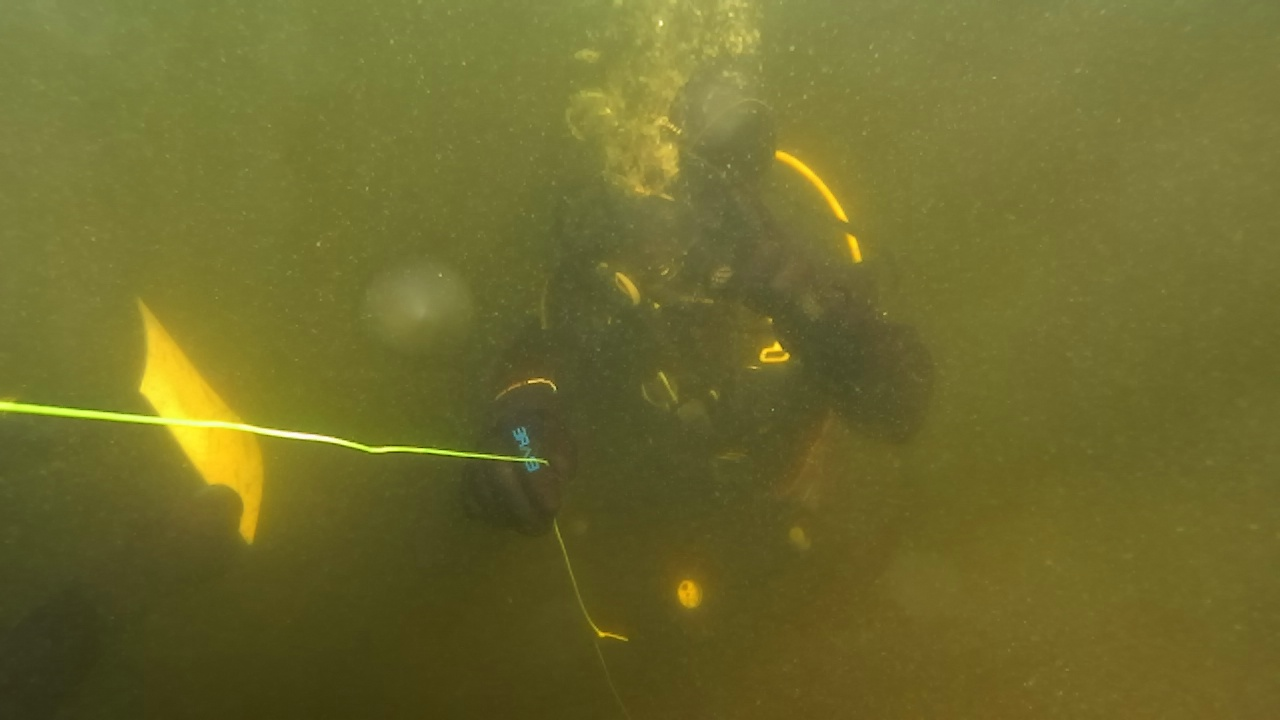Diver: (382, 70, 952, 684)
Hand: (702, 152, 862, 340), (454, 400, 582, 554)
